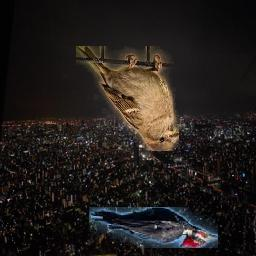Sparrow: (77, 47, 180, 152)
Woodpecker: (90, 208, 219, 249)
